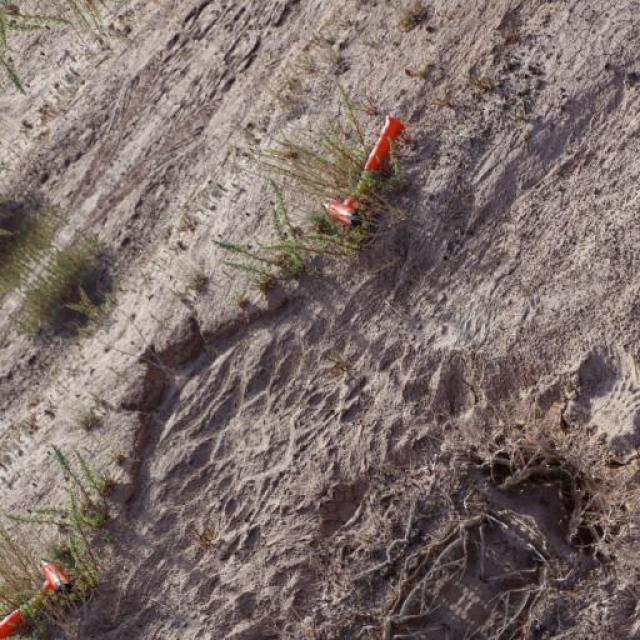mallet: (322, 112, 408, 230), (1, 559, 75, 639)
